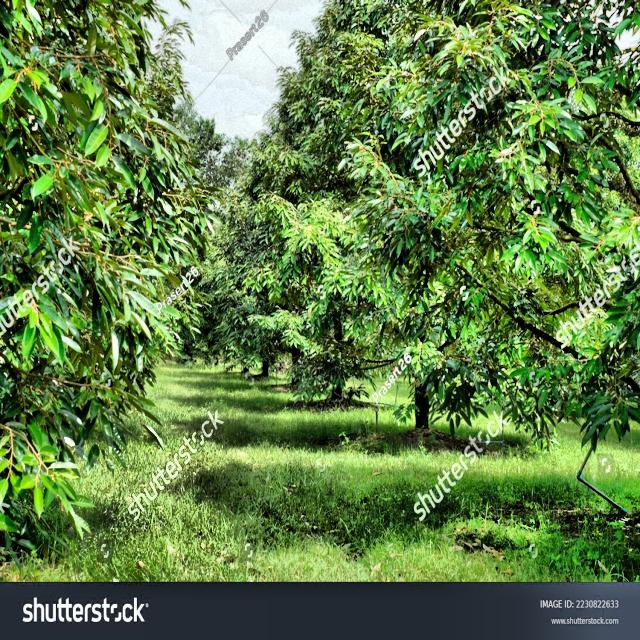arvore: (411, 311, 440, 445)
